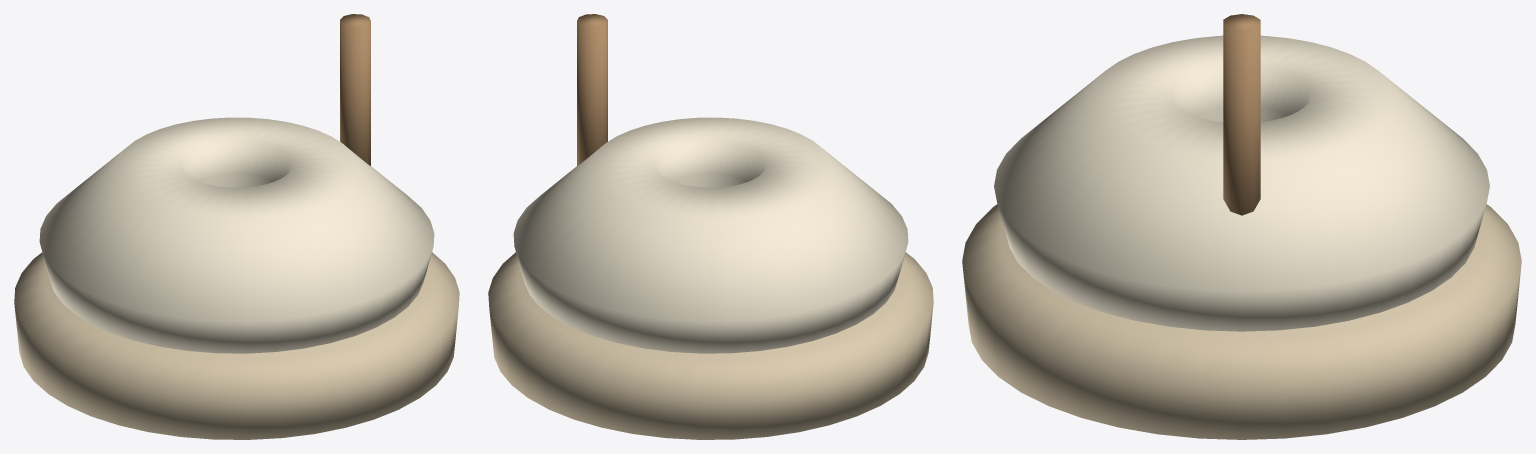
File: rotary-quern.glb
3 views of the same model, side by side, from view 1: azimuth 30°, elevation 25°; view 2: azimuth 150°, elevation 25°; view 3: azimuth 270°, elevation 25° (orthographic). The views are drawn at different scales.
Parts seen in each view (by area): view 1: rotary-quern__marble, rotary-quern__limestone, rotary-quern__woodlight; view 2: rotary-quern__marble, rotary-quern__limestone, rotary-quern__woodlight; view 3: rotary-quern__marble, rotary-quern__limestone, rotary-quern__woodlight.
Part boxes in pixels (x1=…): rotary-quern__marble: x1=39, y1=117, x2=434, y2=353; rotary-quern__limestone: x1=14, y1=252, x2=459, y2=439; rotary-quern__woodlight: x1=340, y1=14, x2=370, y2=165; rotary-quern__marble: x1=513, y1=117, x2=908, y2=353; rotary-quern__limestone: x1=488, y1=252, x2=933, y2=439; rotary-quern__woodlight: x1=577, y1=14, x2=607, y2=165; rotary-quern__marble: x1=994, y1=35, x2=1489, y2=331; rotary-quern__limestone: x1=962, y1=204, x2=1521, y2=439; rotary-quern__woodlight: x1=1223, y1=14, x2=1260, y2=215.
Size of the model in its own units: 0.88 by 0.65 by 0.88.
